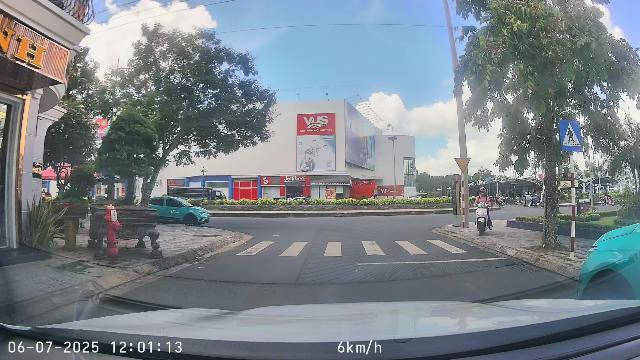208-giao-nhau-voi-duong-uu-tien: (454, 158, 471, 173)
423a-duong-nguoi-di-bo-sang-ngang-1: (559, 120, 583, 151)
